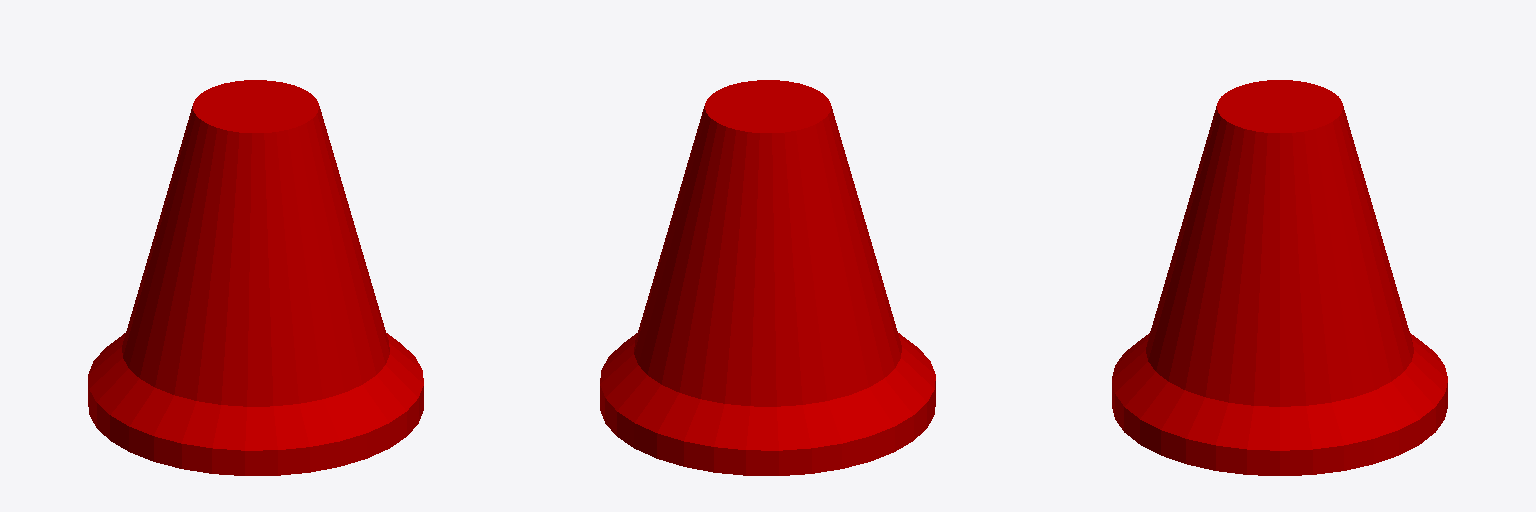
File: sirena.obj
3 views of the same model, side by side, from view 1: azimuth 30°, elevation 25°; view 2: azimuth 150°, elevation 25°; view 3: azimuth 270°, elevation 25° (orthographic).
Visible parts, largest first — view 1: Cylinder; view 2: Cylinder; view 3: Cylinder.
Boxes of the visible parts, box(x1,y1,x2,y2) form: Cylinder: box(88, 80, 423, 475); Cylinder: box(600, 80, 935, 475); Cylinder: box(1112, 80, 1447, 475).
Size of the model in its own units: 2.51 by 2.45 by 2.51.